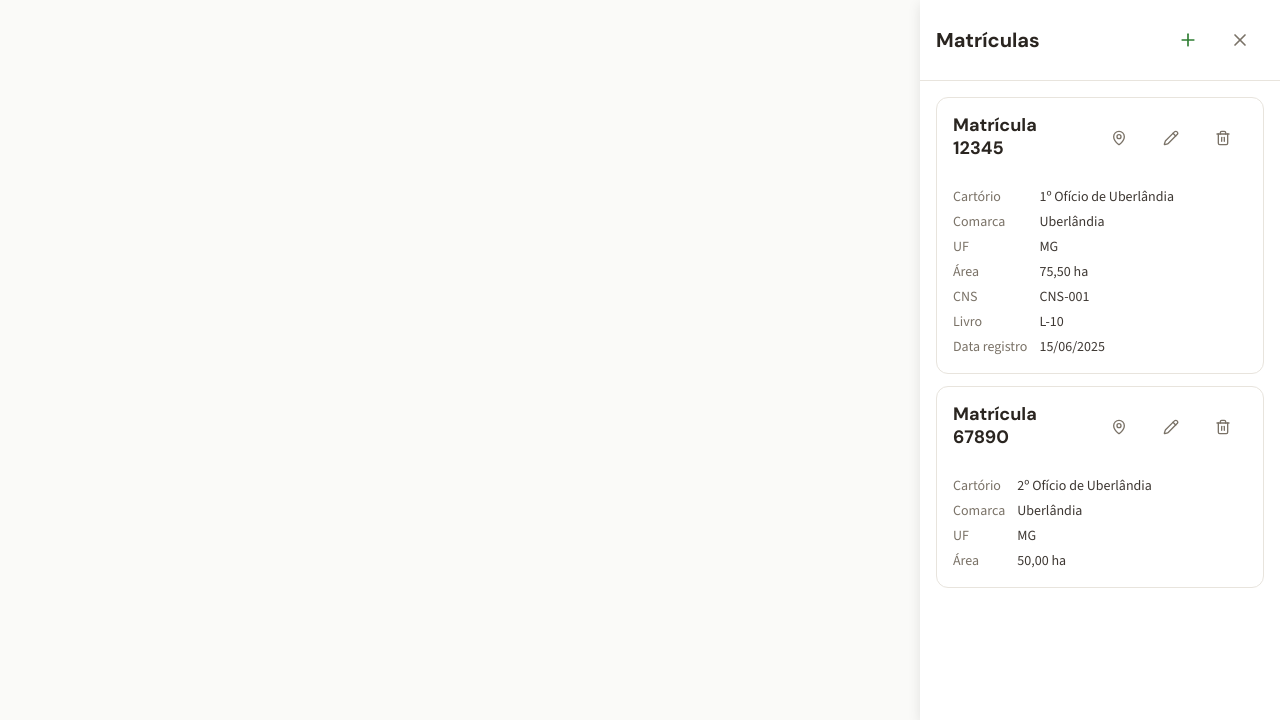
RegistrationsPanel › should dismiss confirm dialog on cancel
Click the button named "Excluir matrícula 12345" at coordinates (1223, 138), box [1199,114,1247,162]
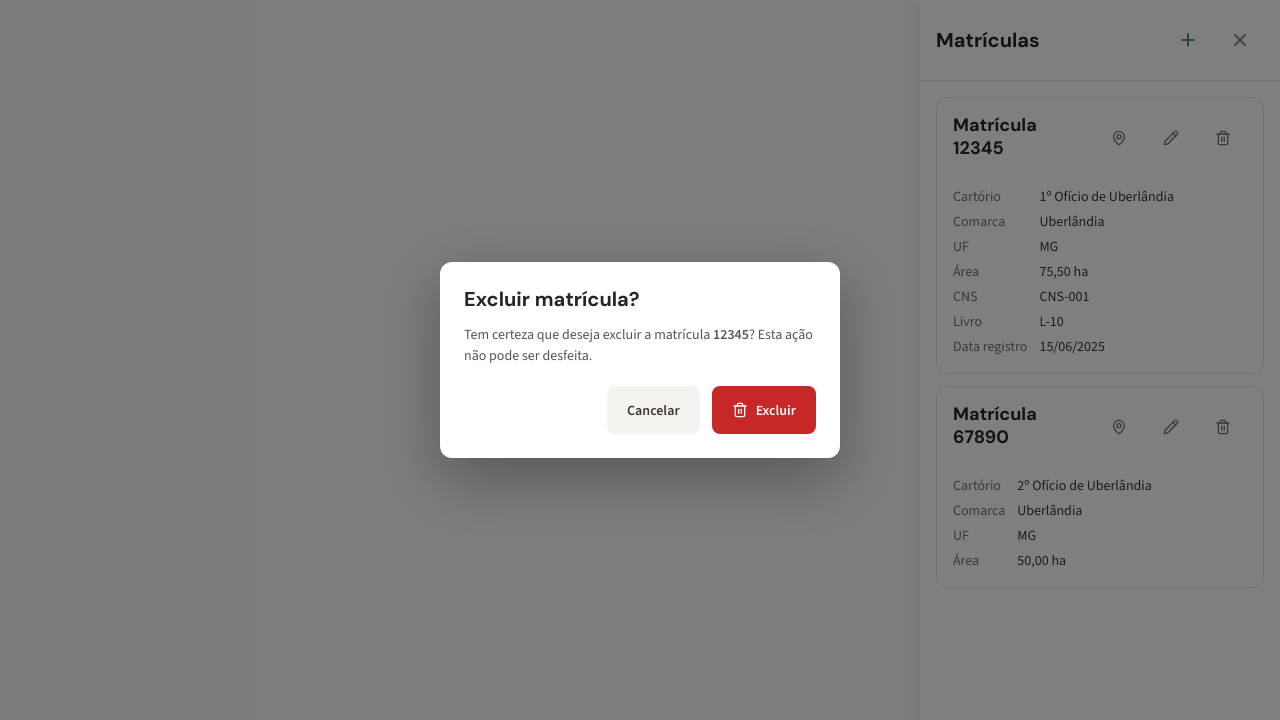
Expected: the heading "Excluir matrícula?" is shown, [464,286,640,312]
Click the button with class "reg-panel__confirm-btn--cancel" at coordinates (653, 410), box [607,386,700,434]
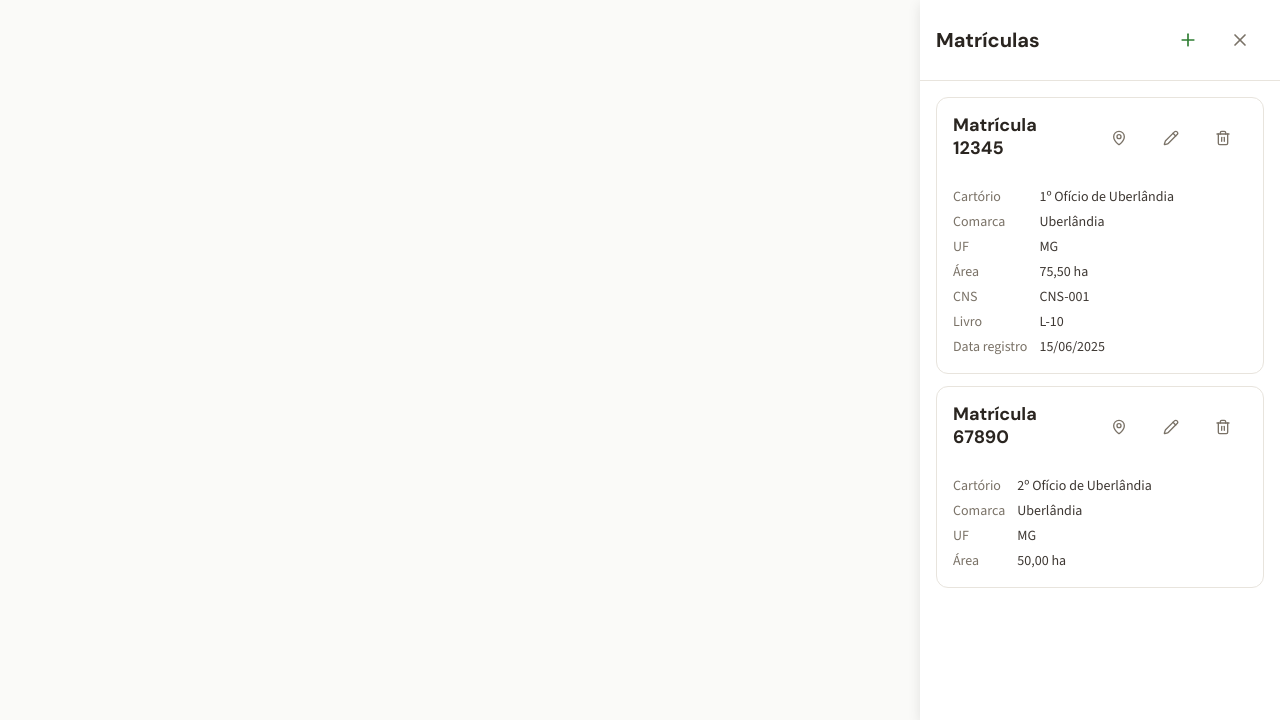
Expected: the heading "Excluir matrícula?" is gone
